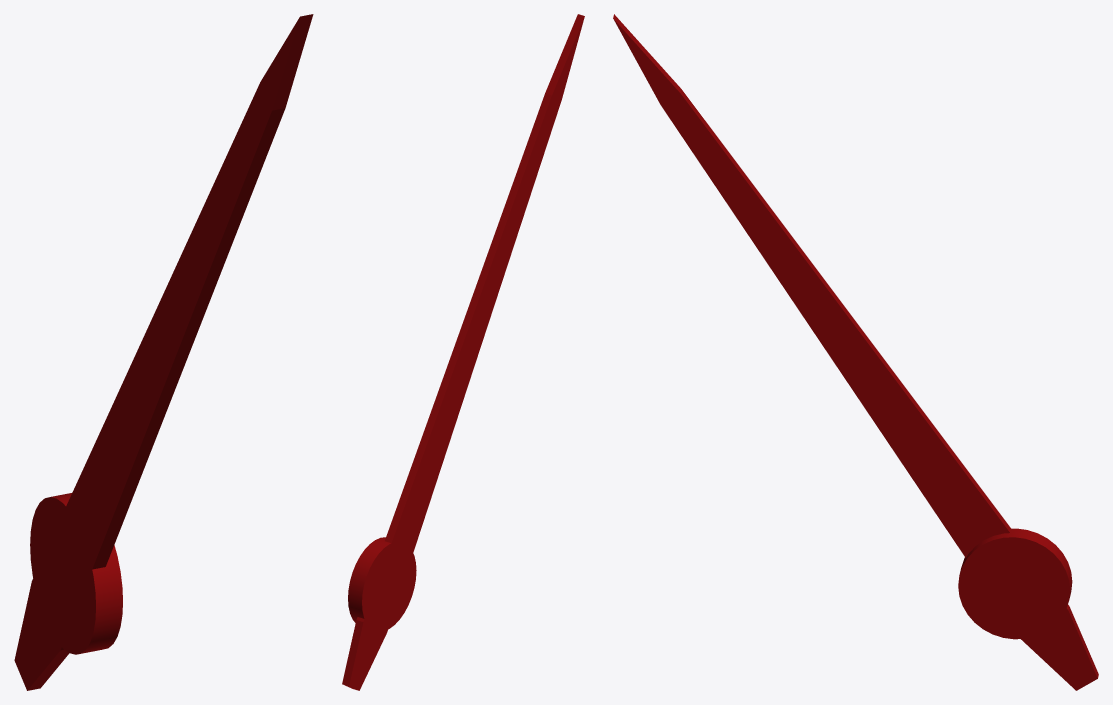
The model's file is 指针_保留表盘中心轴心.fbx.
3 views of the same model, side by side, from view 1: azimuth 30°, elevation 25°; view 2: azimuth 150°, elevation 25°; view 3: azimuth 270°, elevation 25° (orthographic). The views are drawn at different scales.
Visible parts, largest first — view 1: 指针; view 2: 指针; view 3: 指针.
Part boxes in pixels (box(x1,y1,x2,y2)): 指针: box(14, 14, 313, 690); 指针: box(342, 14, 584, 690); 指针: box(613, 14, 1098, 690).
Size of the model in its own units: 0.0026 by 0.0283 by 0.0191.
